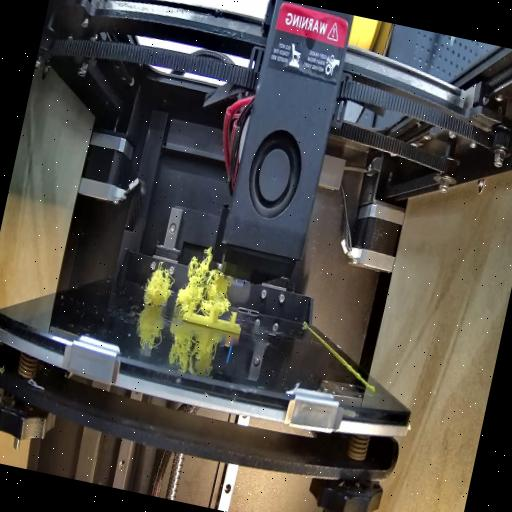spaghetti: (174, 246, 234, 314), (142, 262, 178, 306)
